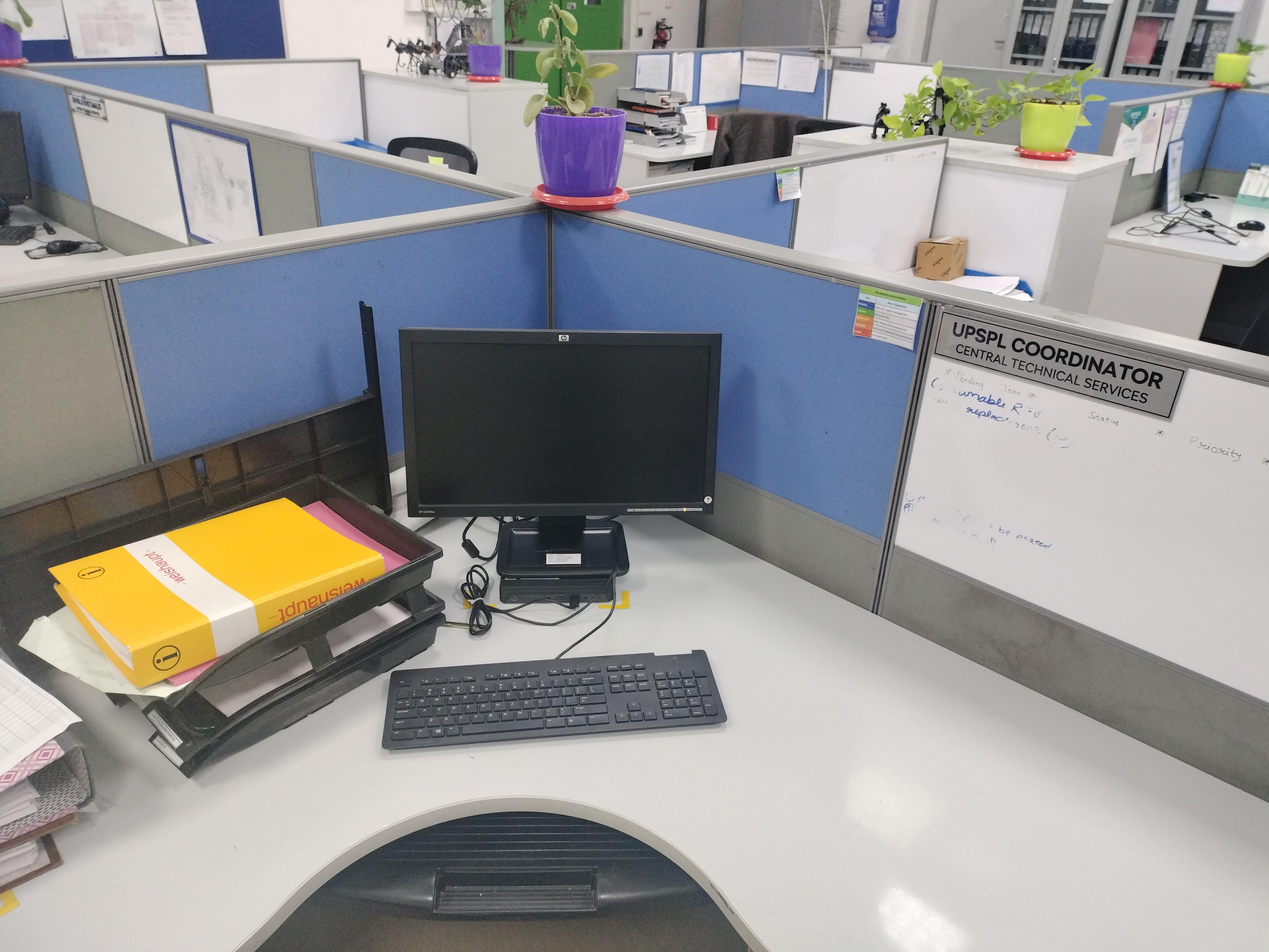calender: (852, 282, 924, 351)
desktop: (397, 327, 723, 581)
file: (47, 497, 388, 690), (0, 646, 99, 847), (0, 813, 78, 894)
filetray: (102, 472, 448, 779)
keyboard: (381, 649, 728, 751)
nameplate: (930, 307, 1190, 423)
page: (0, 657, 83, 777)
vase: (531, 105, 628, 212)
